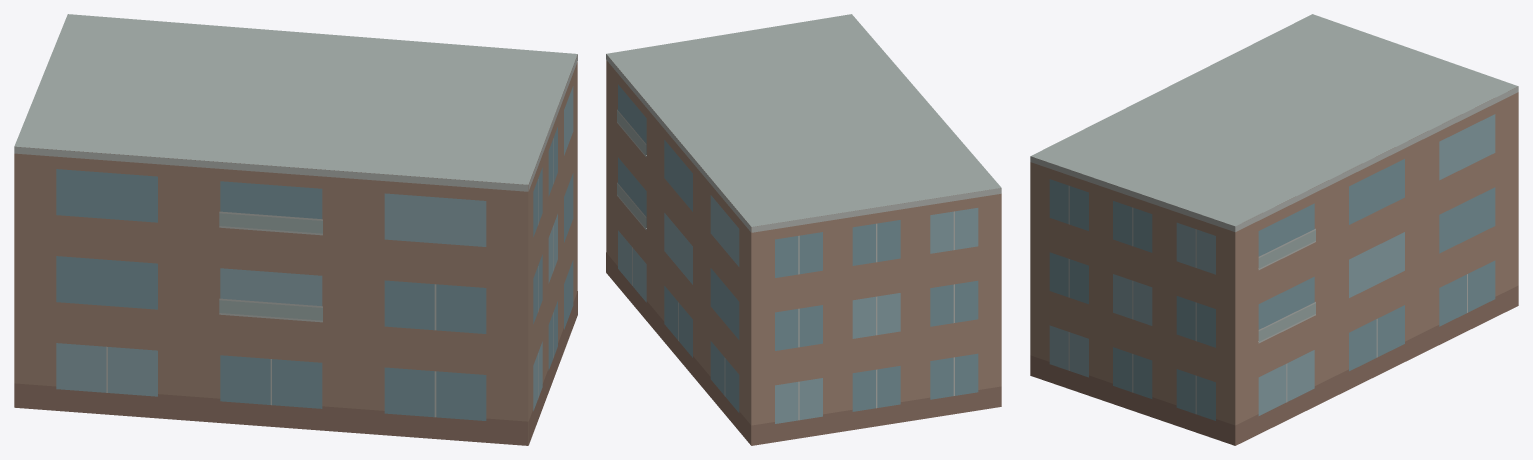
Rendered from survey-upis-32647089.glb.
3 renders of one model, left to right at view 1: azimuth 30°, elevation 25°; view 2: azimuth 150°, elevation 25°; view 3: azimuth 270°, elevation 25°, orthographic. The views are drawn at different scales.
Visible parts, largest first — view 1: survey-upis-32647089.tmp; view 2: survey-upis-32647089.tmp; view 3: survey-upis-32647089.tmp.
Boxes of the visible parts, bbox=[...] form: survey-upis-32647089.tmp: bbox=[14, 14, 577, 445]; survey-upis-32647089.tmp: bbox=[606, 14, 1001, 445]; survey-upis-32647089.tmp: bbox=[1030, 14, 1518, 445].
Bounding box in the file's own units: 18.99 × 9.15 × 18.45.
